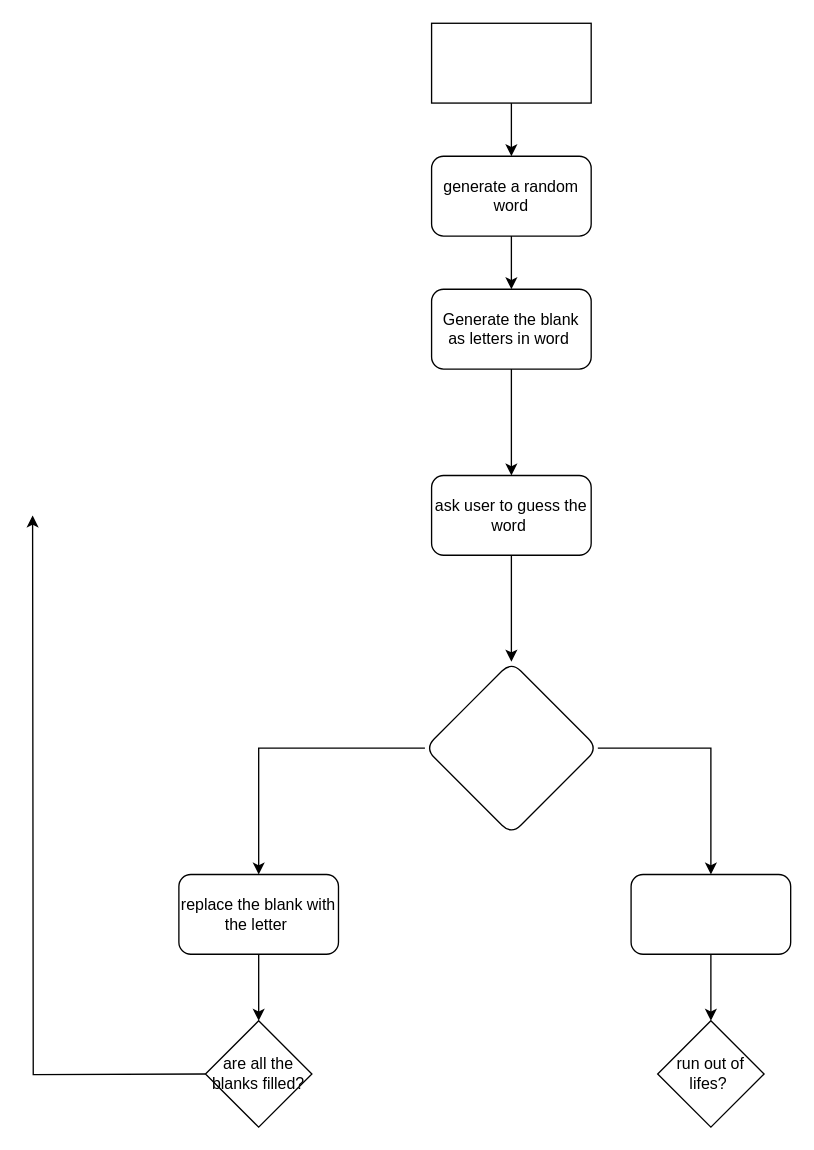
Image size: 814x1150. Some labels were removed from this diagram. The centre of each missing label's shape, as x and y in pixels:
"is the guessed letter in the word" belongs at (x=511, y=747).
"Lose a life" belongs at (x=710, y=913).
"start" belongs at (x=510, y=62).
